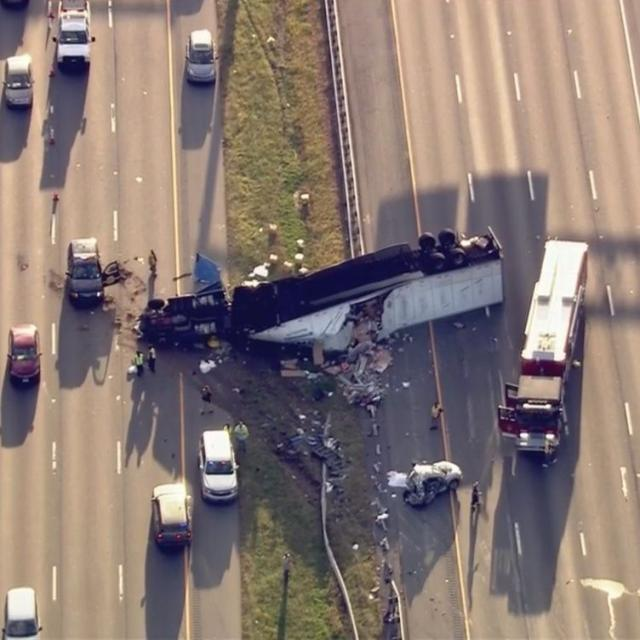traffic_incident: (110, 224, 499, 379)
